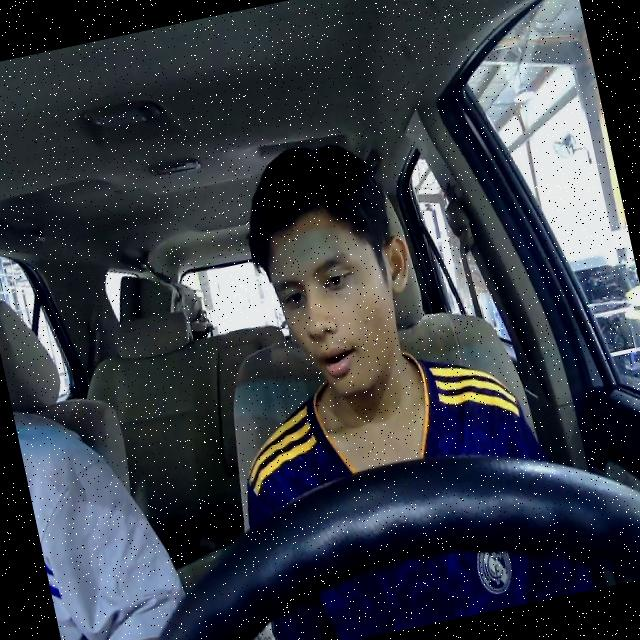yarning: (255, 192, 435, 410)
